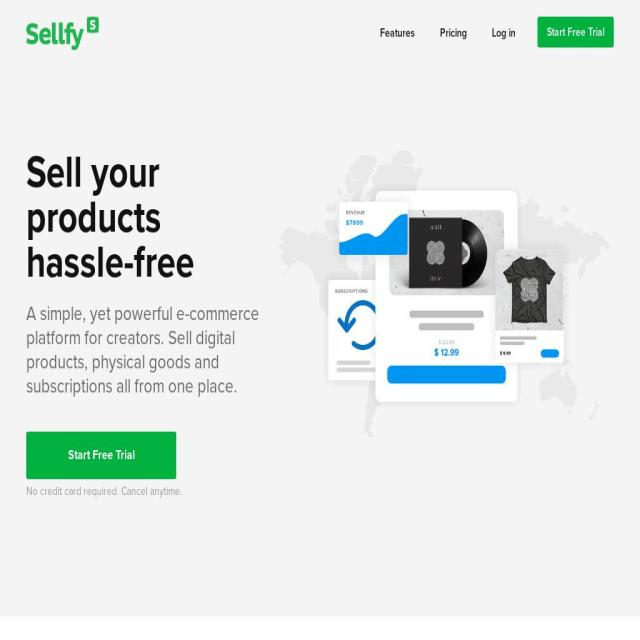button: (26, 432, 176, 479), (26, 8, 100, 50), (368, 8, 428, 58), (428, 8, 480, 58), (479, 8, 528, 58), (538, 16, 614, 48)
heading: (26, 150, 269, 285)
image: (274, 150, 614, 438), (26, 17, 100, 50)
text: (26, 293, 269, 415), (26, 479, 182, 500), (380, 26, 415, 40)
